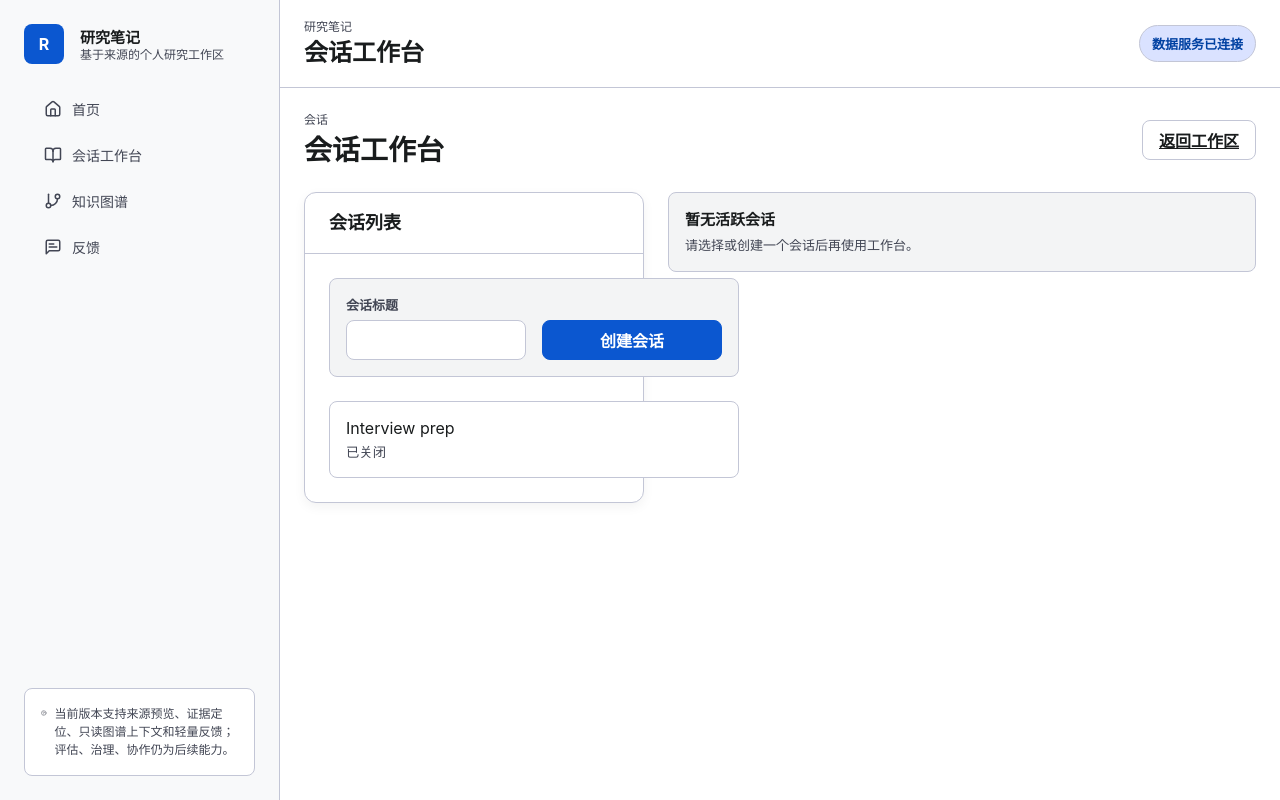
Scenario: 会话工作台 smoke › disables ingest build and query for closed session
Click the button "Interview prep 已关闭".
click(400, 428)  # box [329,401,739,478]
(page scrolled)
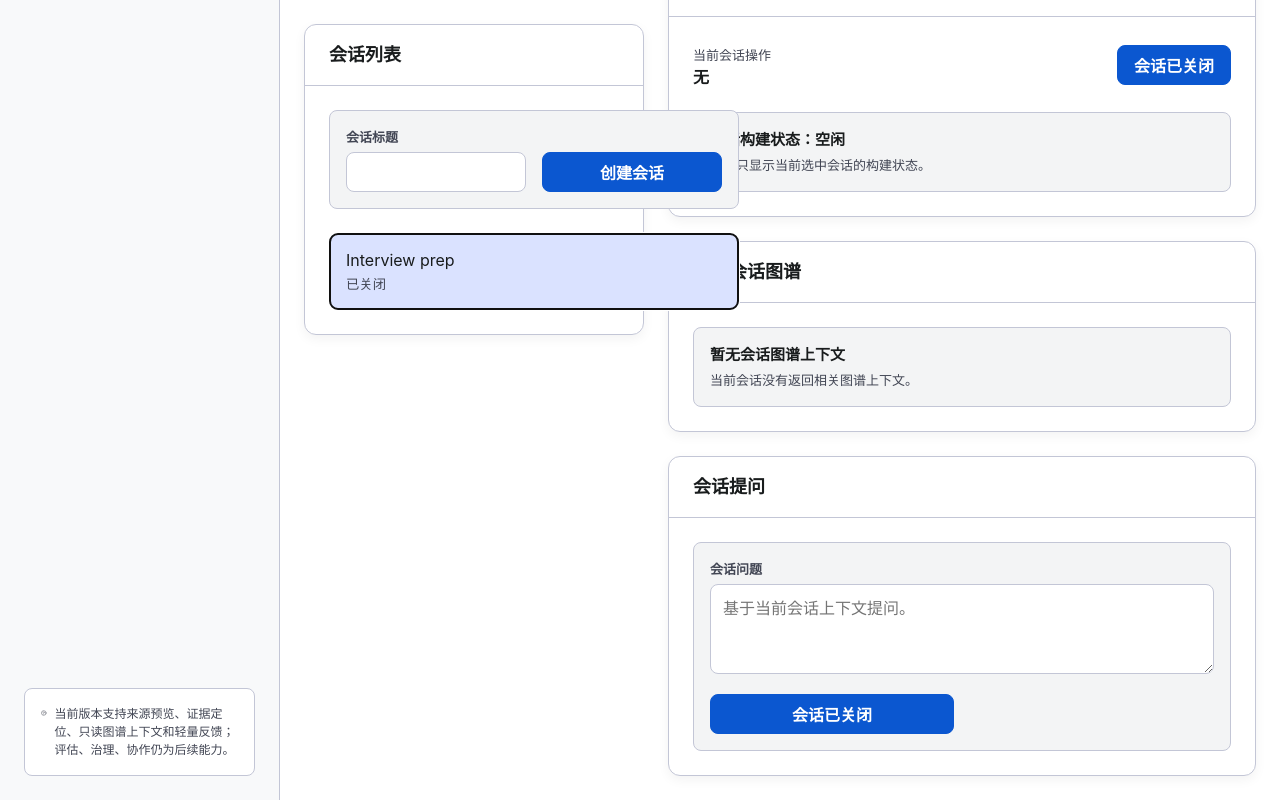
Check: the text box labelled "会话问题" is disabled, box [710,584,1214,674]
